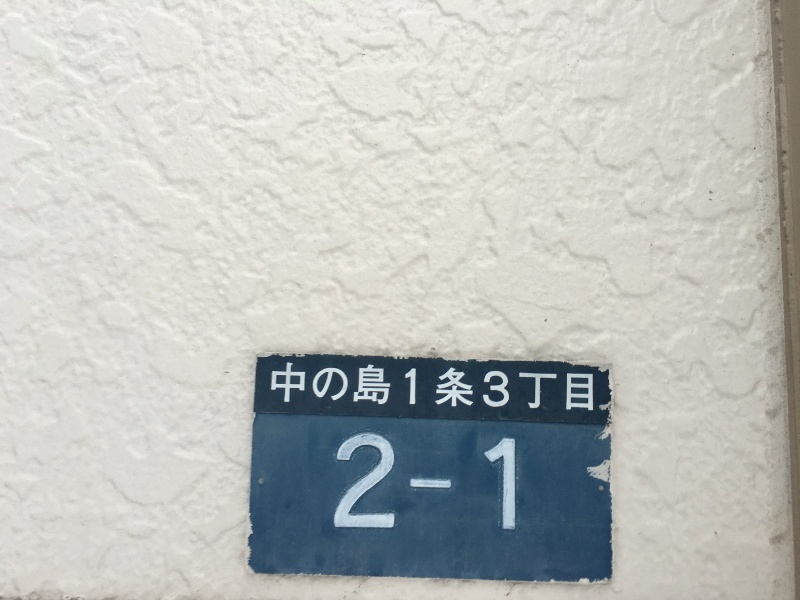text: (353, 430, 368, 531), (369, 430, 384, 531), (385, 430, 400, 531), (401, 430, 416, 531), (417, 430, 432, 531), (433, 430, 448, 531), (449, 430, 464, 531), (465, 430, 480, 531), (481, 430, 496, 531), (497, 430, 512, 531), (338, 430, 352, 531), (289, 362, 304, 412), (305, 362, 320, 412), (321, 362, 336, 412), (337, 362, 352, 412), (353, 362, 368, 412), (369, 362, 384, 412), (385, 362, 400, 412), (401, 362, 416, 412), (417, 362, 432, 412), (433, 362, 448, 412), (449, 362, 464, 412), (465, 362, 480, 412), (481, 362, 496, 412), (497, 362, 512, 412), (513, 362, 528, 412), (529, 362, 544, 412), (545, 362, 560, 412), (561, 362, 576, 412), (577, 362, 592, 412), (274, 362, 288, 412), (513, 430, 516, 531), (593, 362, 594, 412)
